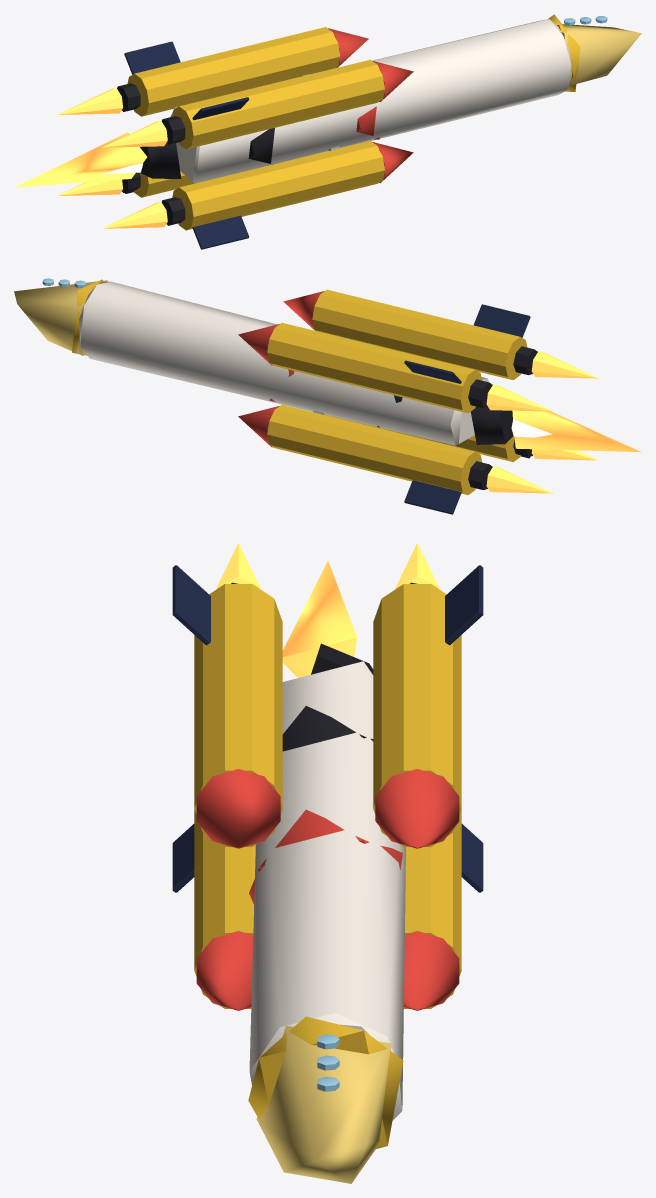
The model's file is rocket.glb.
The picture shows the model from 3 angles, top to bottom: view 1: azimuth 30°, elevation 25°; view 2: azimuth 150°, elevation 25°; view 3: azimuth 270°, elevation 25°; orthographic projection. The views are drawn at different scales.
Visible parts, largest first — view 1: rocket; view 2: rocket; view 3: rocket.
Boxes of the visible parts, x1,y1,x2,y2 form: rocket: (15,14,641,249); rocket: (14,278,640,514); rocket: (172,543,483,1183).
Size of the model in its own units: 118 by 25.32 by 25.32.
Materials: 1 (1 with a texture image).
